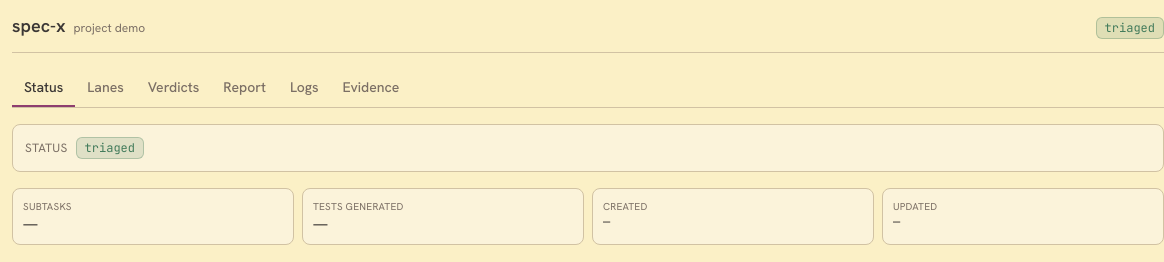
it: <PFactoryTaskDetail> report tab › shows friendly 404 message when report endpoint returns 404
The width and height of the screenshot is (1164, 262).
Click the tab with test id "tab-report": (245, 88) [211,69,278,107]
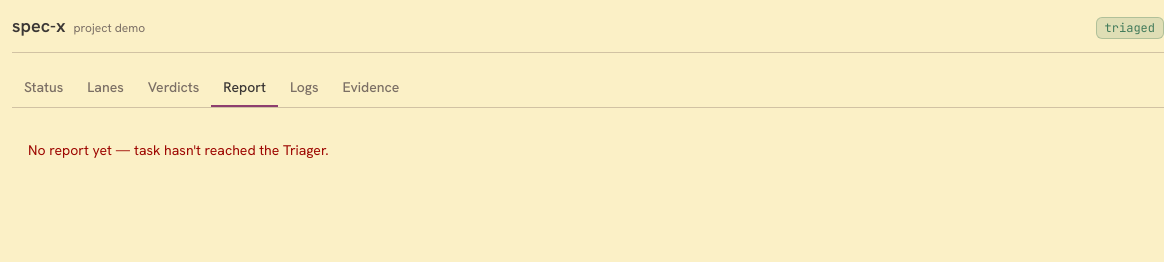
Now the text "No report yet — task hasn't reached the Triager." is shown, box [28,141,329,159]
